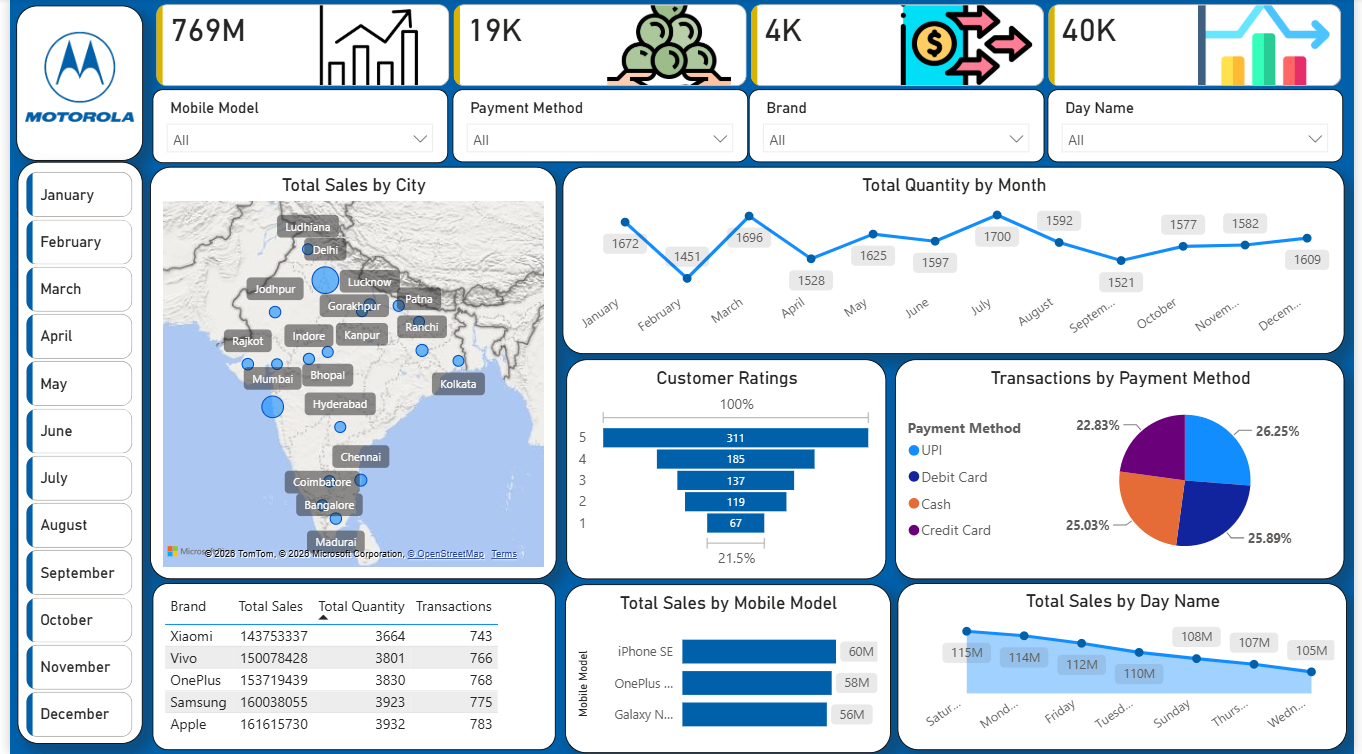

The page's visual inventory and layout, read from the dashboard file:
{"tool":"powerbi","page":{"name":"Page 1","canvas":[1280,720],"ordinal":0},"visuals":[{"type":"shape","box":[5.5,6.9,120.8,148.2],"z":0},{"type":"image","box":[9.6,16.5,113.9,116.6],"z":1000},{"type":"shape","box":[6.9,156.4,119.4,554.4],"z":2000},{"type":"advancedSlicerVisual","fields":{"Values":["Sales_Data.Date.Variation.Date Hierarchy.Month"]},"box":[11,160.5,111.1,548.9],"z":3000},{"type":"cardVisual","fields":{"Data":["Sales_Data.Total Sales","Sales_Data.Total Quantity","Sales_Data.Transactions","Sales_Data.Average"]},"box":[134,5.6,1140.1,83.7],"z":4000},{"type":"map","fields":{"Category":["Sales_Data.City"],"Size":["Sales_Data.Total Sales"]},"box":[133.3,160.7,386.9,392.9],"z":5000},{"type":"lineChart","fields":{"Category":["Sales_Data.Date.Variation.Date Hierarchy.Month","Sales_Data.Date.Variation.Date Hierarchy.Day"],"Y":["Sales_Data.Total Quantity"]},"box":[525.9,160.8,744.8,178.7],"z":6000},{"type":"clusteredBarChart","fields":{"Category":["Sales_Data.Mobile Model"],"Y":["Sales_Data.Total Sales"]},"box":[528.3,558.5,310.1,160.5],"z":7000},{"type":"pieChart","fields":{"Category":["Sales_Data.Payment Method"],"Y":["Sales_Data.Transactions"]},"box":[842.5,344.4,428.1,209.9],"z":8000},{"type":"funnel","title":"Customer Ratings","fields":{"Category":["Sales_Data.Customer Ratings"],"Y":["CountNonNull(Sales_Data.Customer Ratings)"]},"box":[529.7,344.4,304.6,209.9],"z":9000},{"type":"areaChart","fields":{"Category":["Sales_Data.Day Name"],"Y":["Sales_Data.Total Sales"]},"box":[845.3,557.1,428.1,159.2],"z":10000},{"type":"tableEx","fields":{"Values":["Sales_Data.Brand","Sales_Data.Total Sales","Sales_Data.Total Quantity","Sales_Data.Transactions"]},"box":[135.8,557.1,384.2,159.2],"z":11000},{"type":"slicer","fields":{"Values":["Sales_Data.Mobile Model"]},"box":[136.2,87.1,281.4,70.3],"z":12000},{"type":"slicer","fields":{"Values":["Sales_Data.Payment Method"]},"box":[421,87.1,281.4,69.2],"z":13000},{"type":"slicer","fields":{"Values":["Sales_Data.Brand"]},"box":[703.5,87.1,281.4,69.2],"z":14000},{"type":"slicer","fields":{"Values":["Sales_Data.Day Name"]},"box":[988.2,87.1,281.4,69.2],"z":15000}]}

Visuals, with their boxes in screenshot pixels (x1, y1, x2, y2), scaled from the page's 1280x720 canvas onto the 1362x754 screenshot:
shape: (x1=6, y1=7, x2=134, y2=162)
image: (x1=10, y1=17, x2=131, y2=139)
shape: (x1=7, y1=164, x2=134, y2=744)
advancedSlicerVisual - Sales_Data.Date.Variation.Date Hierarchy.Month: (x1=12, y1=168, x2=130, y2=743)
cardVisual - Sales_Data.Total Sales x Sales_Data.Total Quantity: (x1=143, y1=6, x2=1356, y2=94)
map - Sales_Data.City x Sales_Data.Total Sales: (x1=142, y1=168, x2=554, y2=580)
lineChart - Sales_Data.Date.Variation.Date Hierarchy.Month x Sales_Data.Date.Variation.Date Hierarchy.Day: (x1=560, y1=168, x2=1352, y2=356)
clusteredBarChart - Sales_Data.Mobile Model x Sales_Data.Total Sales: (x1=562, y1=585, x2=892, y2=753)
pieChart - Sales_Data.Payment Method x Sales_Data.Transactions: (x1=896, y1=361, x2=1352, y2=580)
"Customer Ratings" funnel: (x1=564, y1=361, x2=888, y2=580)
areaChart - Sales_Data.Day Name x Sales_Data.Total Sales: (x1=899, y1=583, x2=1355, y2=750)
tableEx - Sales_Data.Brand x Sales_Data.Total Sales: (x1=144, y1=583, x2=553, y2=750)
slicer - Sales_Data.Mobile Model: (x1=145, y1=91, x2=444, y2=165)
slicer - Sales_Data.Payment Method: (x1=448, y1=91, x2=747, y2=164)
slicer - Sales_Data.Brand: (x1=749, y1=91, x2=1048, y2=164)
slicer - Sales_Data.Day Name: (x1=1052, y1=91, x2=1351, y2=164)
